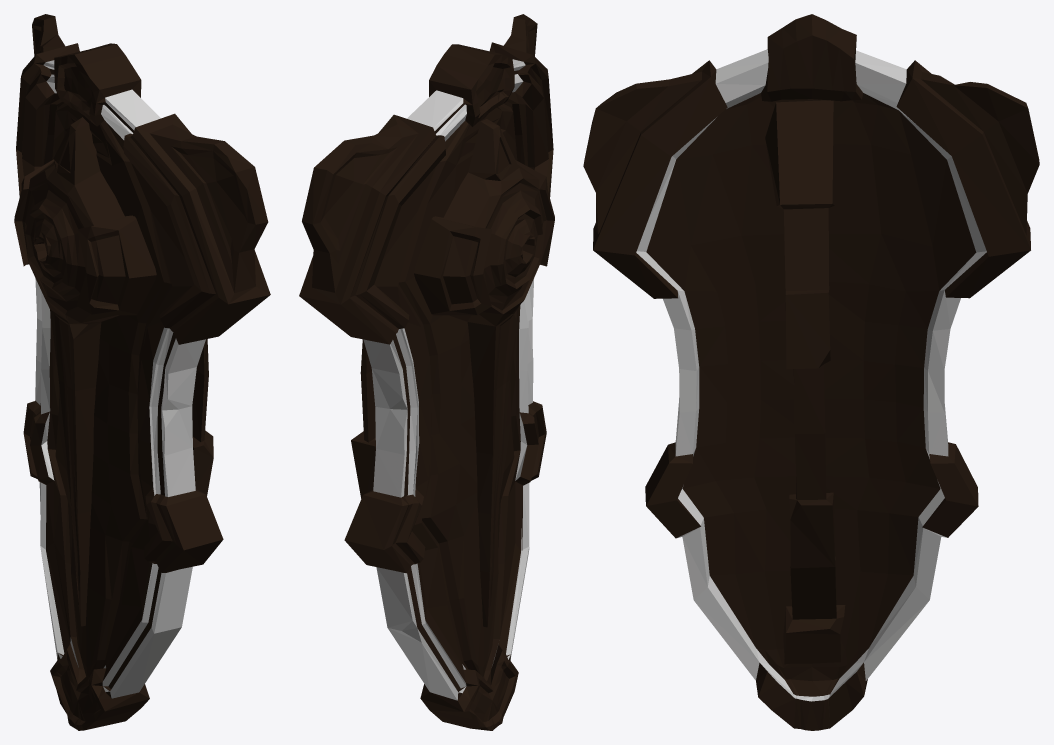
Rendered from SFFA_Shield_Stylized_003.fbx.
3 renders of one model, left to right at view 1: azimuth 30°, elevation 25°; view 2: azimuth 150°, elevation 25°; view 3: azimuth 270°, elevation 25°, orthographic. The views are drawn at different scales.
Visible parts, largest first — view 1: SFFA_Shield_Stylized_003; view 2: SFFA_Shield_Stylized_003; view 3: SFFA_Shield_Stylized_003.
Boxes of the visible parts, <box> form: SFFA_Shield_Stylized_003: <box>14,14,270,730</box>; SFFA_Shield_Stylized_003: <box>299,14,554,730</box>; SFFA_Shield_Stylized_003: <box>583,14,1039,730</box>.
Size of the model in its own units: 35.27 by 135 by 80.25.
